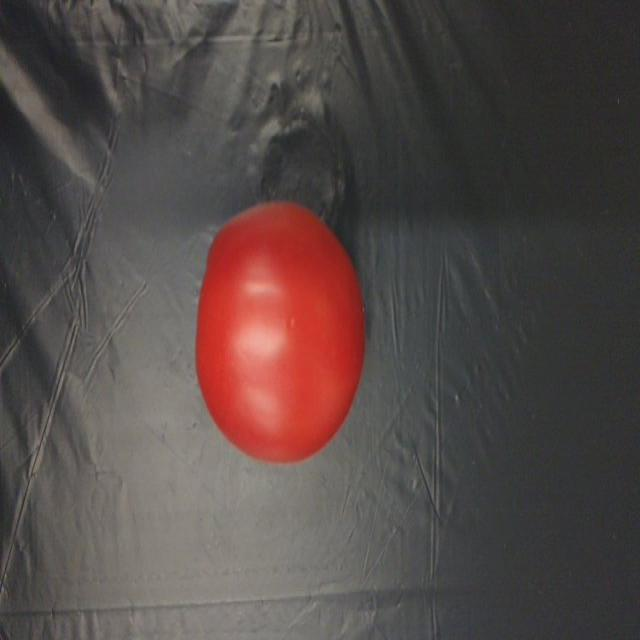kirmizi: (190, 196, 376, 467)
